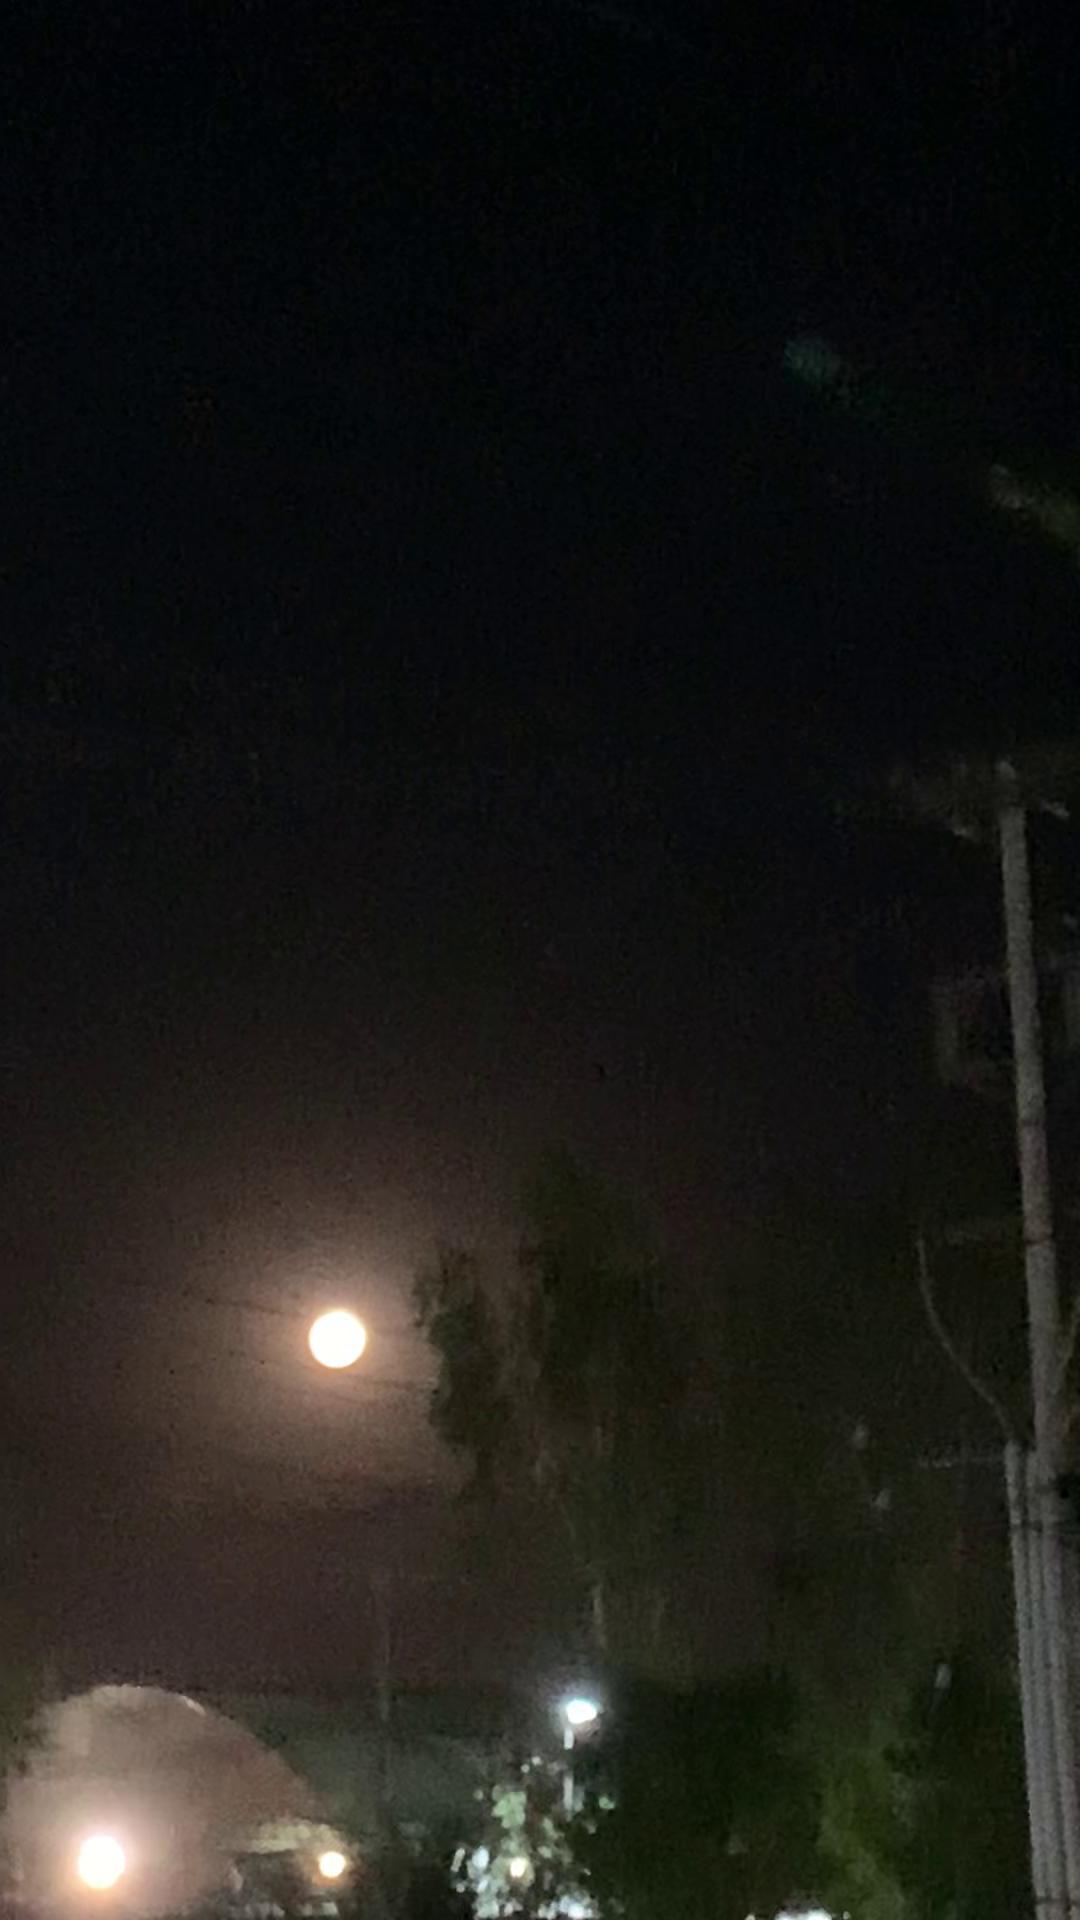moon: (311, 1305, 382, 1378)
